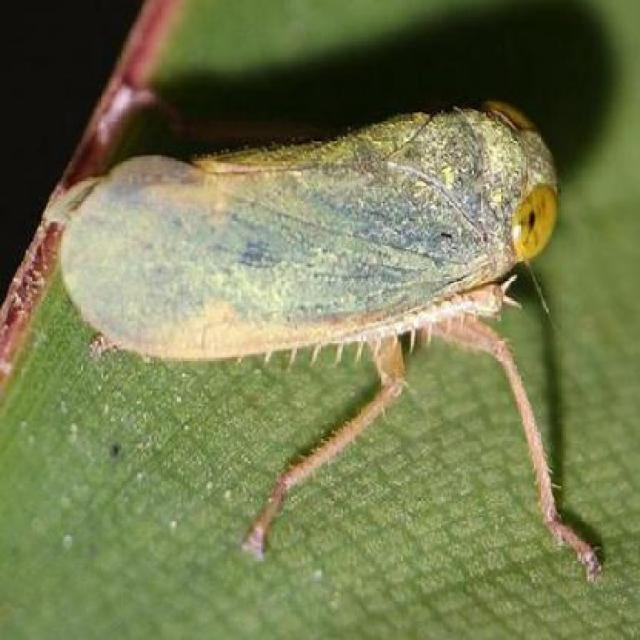green-leafhopper: (57, 105, 555, 362)
